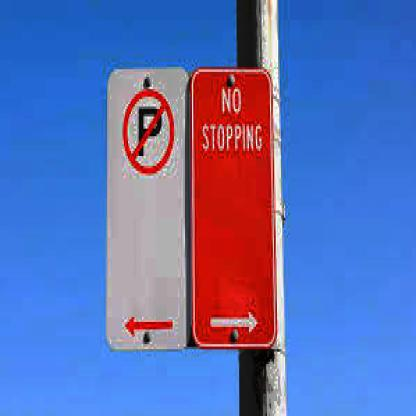No parking: (113, 83, 176, 182)
